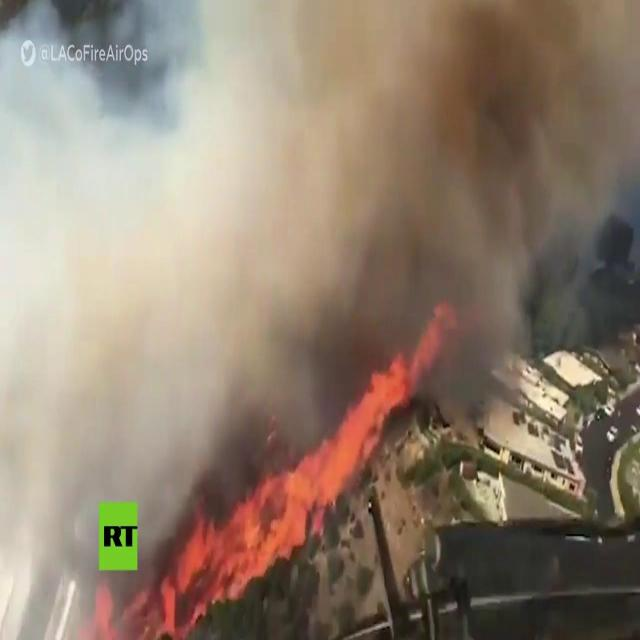Fire: (94, 308, 456, 638)
